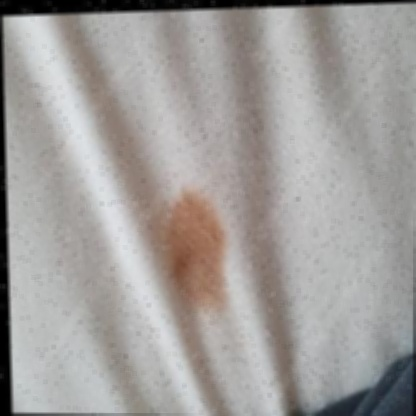kimchi: (153, 193, 237, 315)
